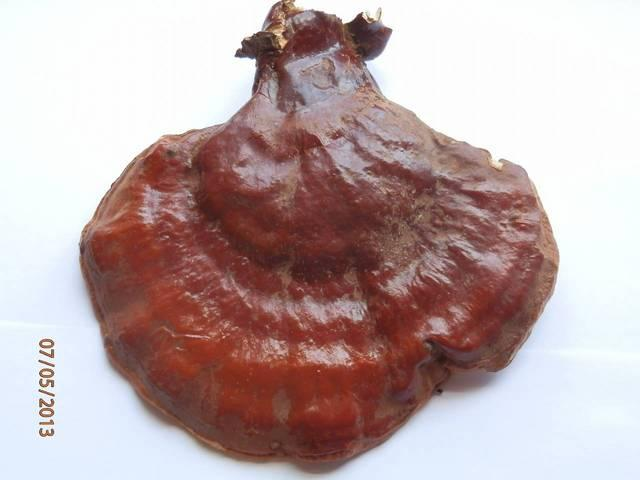poisonous_mushroom: (77, 0, 560, 468)
